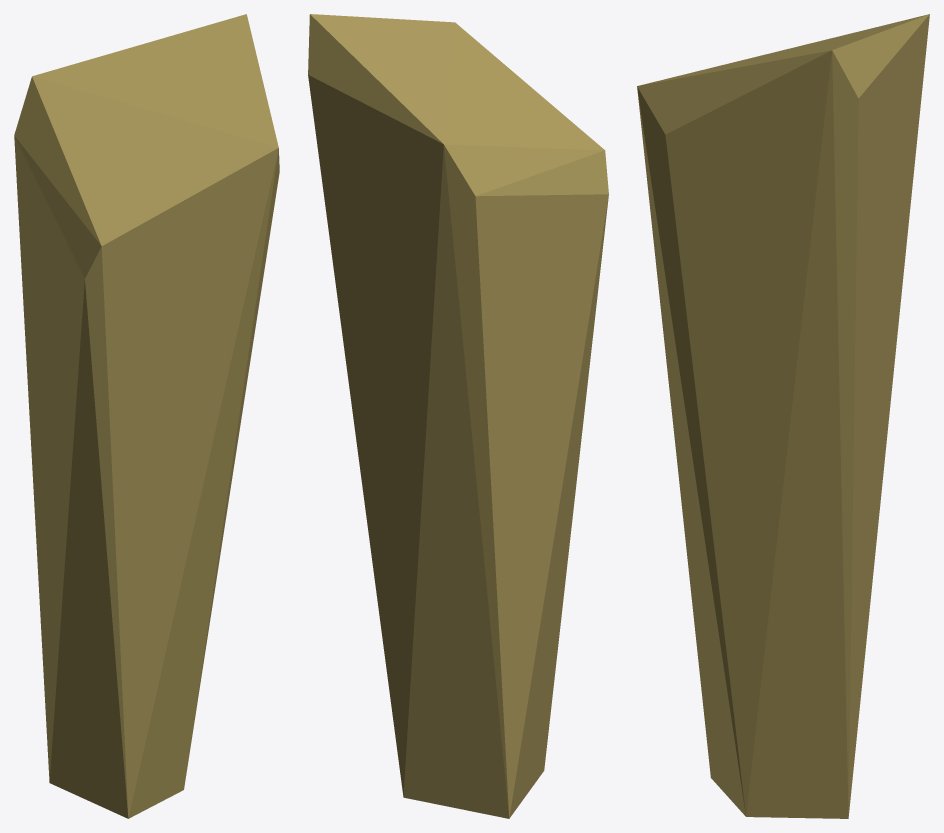
The model's file is Wheat.lod4.glb.
3 renders of one model, left to right at view 1: azimuth 30°, elevation 25°; view 2: azimuth 150°, elevation 25°; view 3: azimuth 270°, elevation 25°, orthographic. The views are drawn at different scales.
Parts seen in each view (by area): view 1: Wheat; view 2: Wheat; view 3: Wheat.
Boxes of the visible parts, box(x1,y1,x2,y2) form: Wheat: box(14, 14, 279, 818); Wheat: box(308, 14, 608, 818); Wheat: box(637, 14, 929, 818).
Size of the model in its own units: 0.358 by 1.1 by 0.3557.
